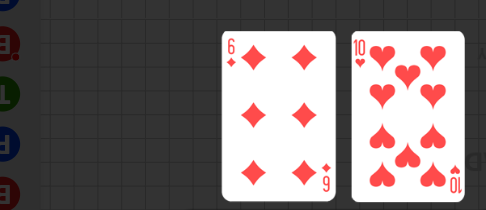10H: (449, 164, 463, 196)
6D: (226, 37, 238, 69)
